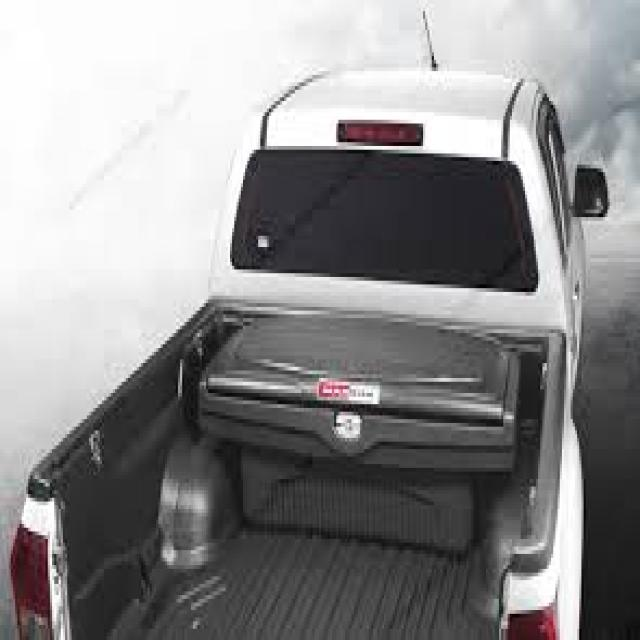car: (11, 34, 610, 640)
